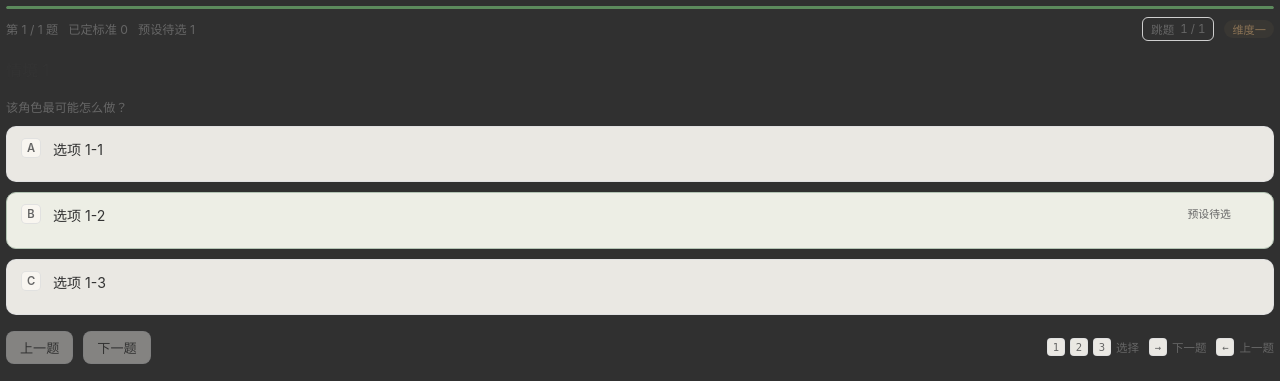
Scenario: PtwQuizPanel › 冻结评测题人工选定后只显示一个标准答案，不再保留预设待选
What coordinates should you click on to do the following:
click the button "B 选项 1-2 预设待选"
I would click on:
 (79, 216)
Its box is [6,192,1274,249].
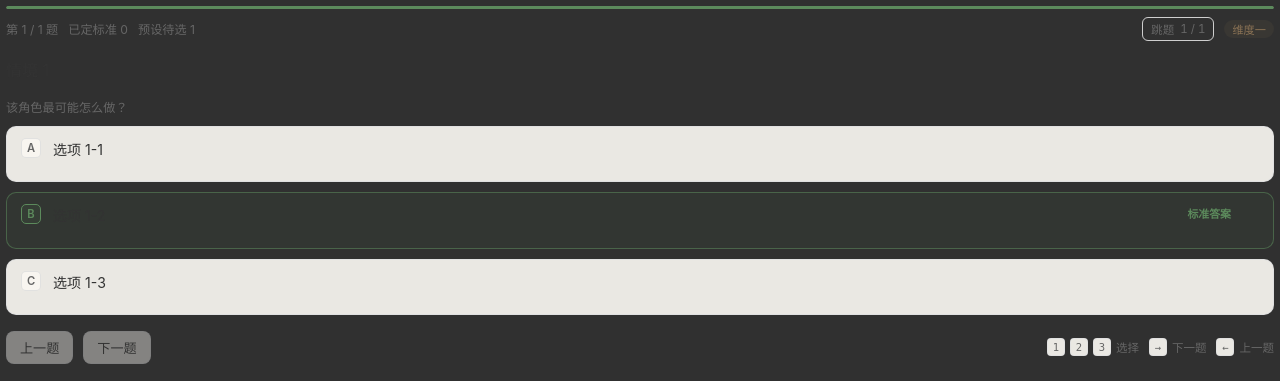
Expected: the text "预设待选" is not shown
Result: the button "B 选项 1-2 标准答案" is shown at [6,192,1274,249]
What coordinates should you click on to do the following:
click the button "C 选项 1-3"
I would click on:
 (79, 282)
Its box is [6,259,1274,315].
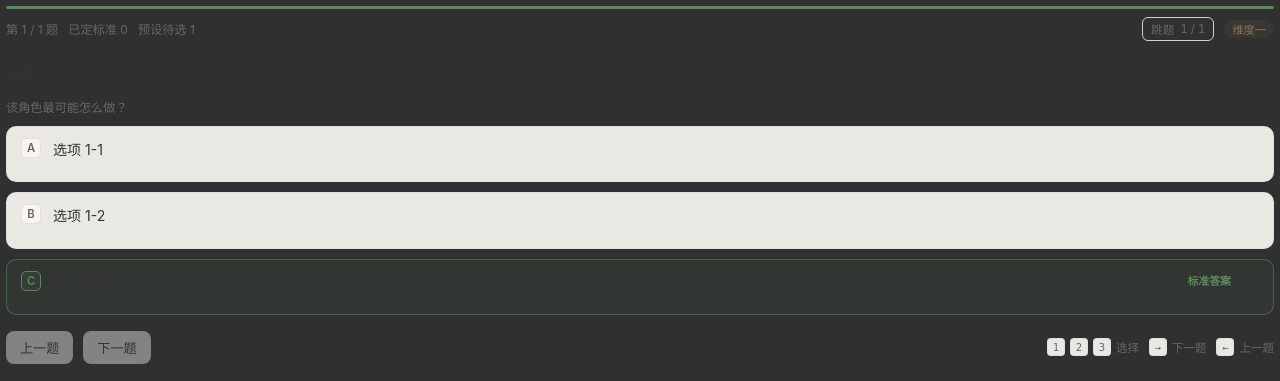
Expected: the text "预设待选" is not shown
Result: the button "C 选项 1-3 标准答案" is shown at [6,259,1274,315]
